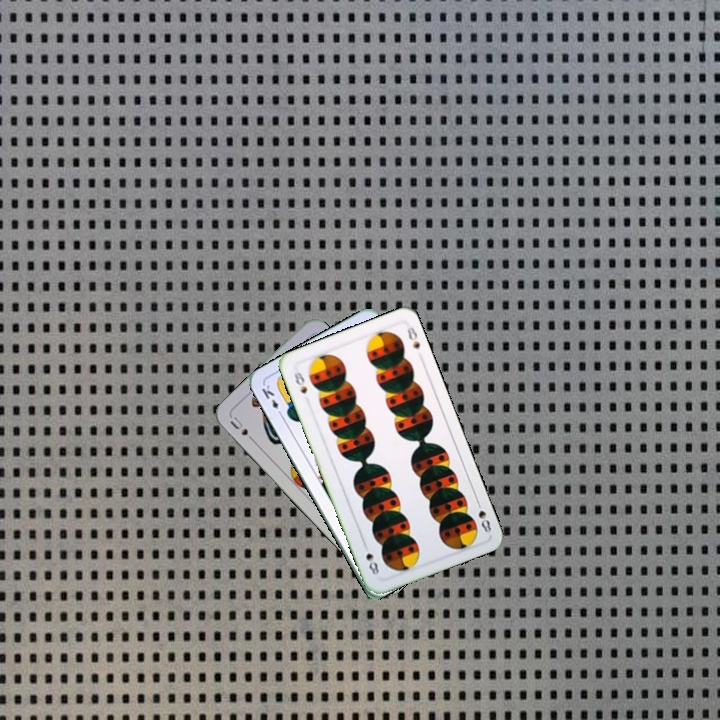EK: (258, 381, 285, 419)
S8: (472, 496, 494, 535), (290, 368, 310, 397)
SU: (226, 412, 259, 446)
